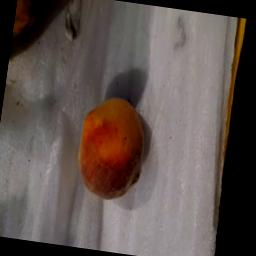Peach Unripe: (60, 86, 170, 214)
